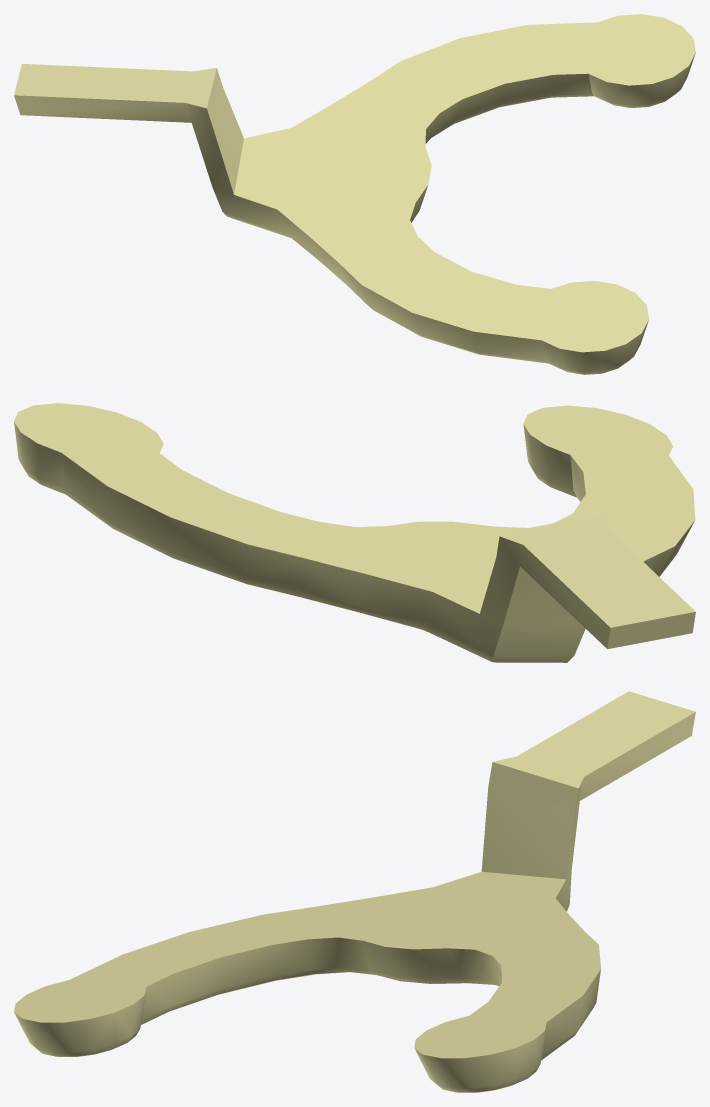
The model's file is original-8.obj.
The picture shows the model from 3 angles, top to bottom: view 1: azimuth 30°, elevation 25°; view 2: azimuth 150°, elevation 25°; view 3: azimuth 270°, elevation 25°; orthographic projection. The views are drawn at different scales.
Parts seen in each view (by area): view 1: mesh25/mesh25-geometry#mesh25-geometry; view 2: mesh25/mesh25-geometry#mesh25-geometry; view 3: mesh25/mesh25-geometry#mesh25-geometry.
Boxes of the visible parts, x1,y1,x2,y2 form: mesh25/mesh25-geometry#mesh25-geometry: (14,14,695,374); mesh25/mesh25-geometry#mesh25-geometry: (14,403,695,662); mesh25/mesh25-geometry#mesh25-geometry: (14,691,695,1092).
Size of the model in its own units: 0.2015 by 0.0518 by 0.1776.
